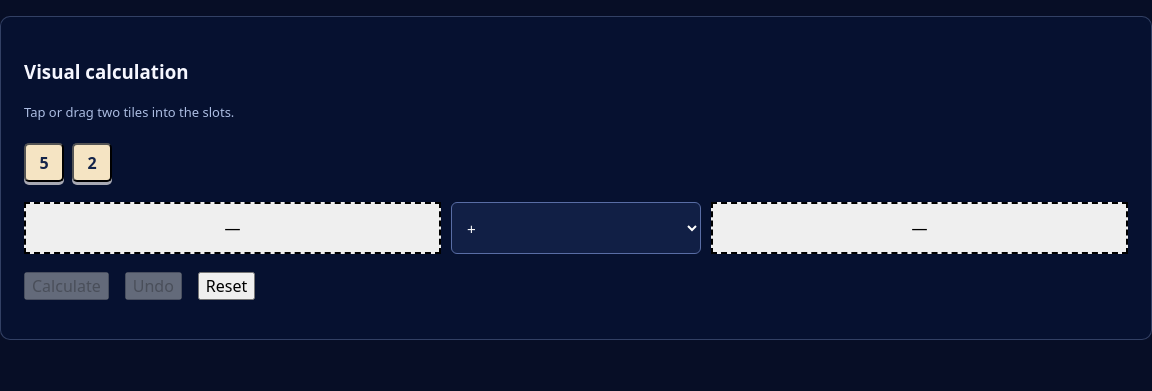
Scenario: rejects fractional division without consuming tiles
Click the button "5": (44, 163) [24, 143, 64, 182]
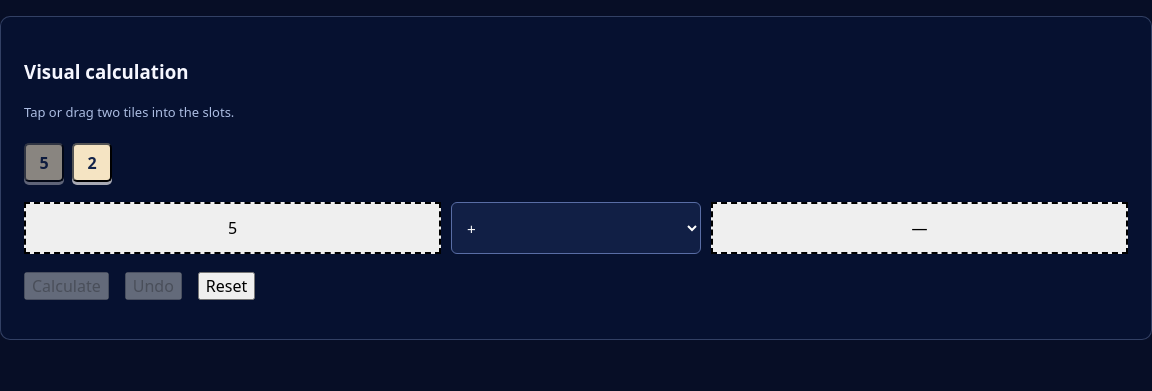
Click the button "2": (92, 163) [72, 143, 112, 182]
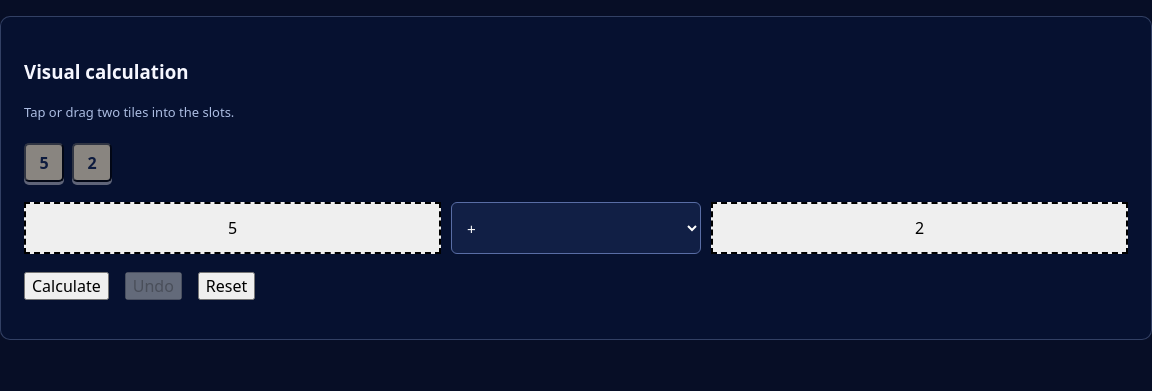
Select "÷" in the dropdown named "Operation": (576, 228) [451, 202, 701, 254]
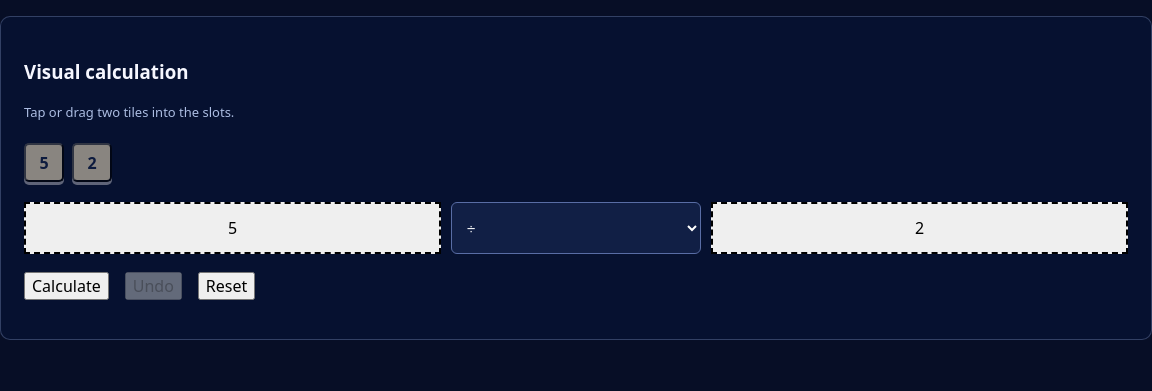
Click the button "Calculate": (66, 286) [24, 272, 109, 300]
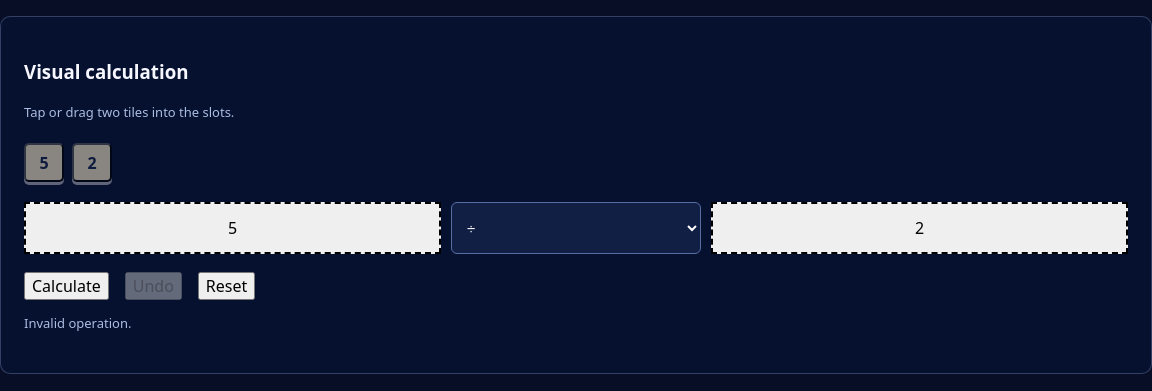
Expected: the 1st button "5" is shown, [24, 143, 64, 182]
Expected: the message reads "Invalid operation.", [24, 314, 132, 332]
